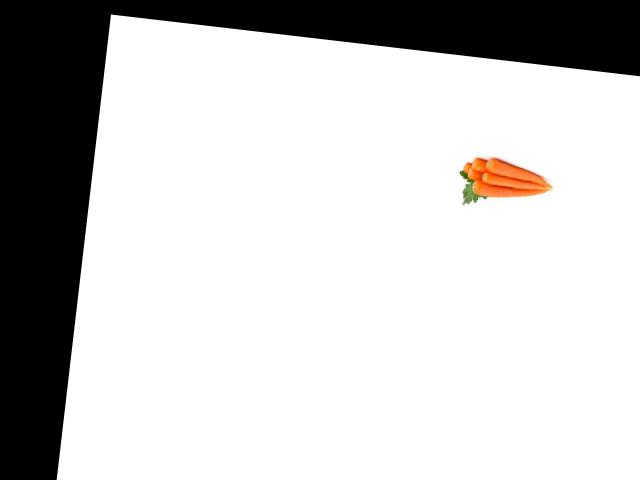carrot: (459, 160, 473, 174)
